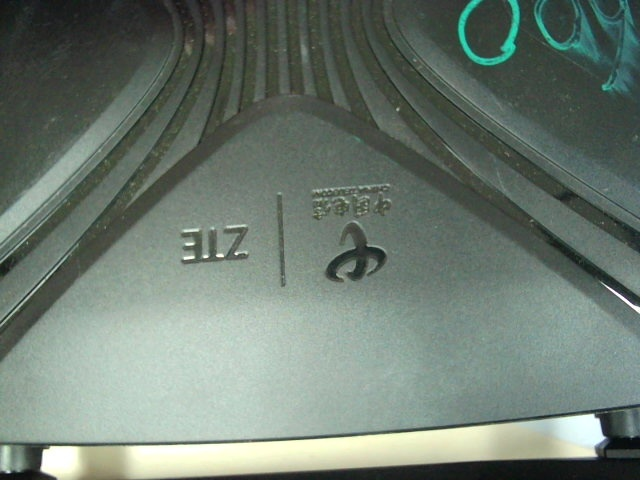AX_ZTEChinaTelecom: (164, 175, 423, 284)
